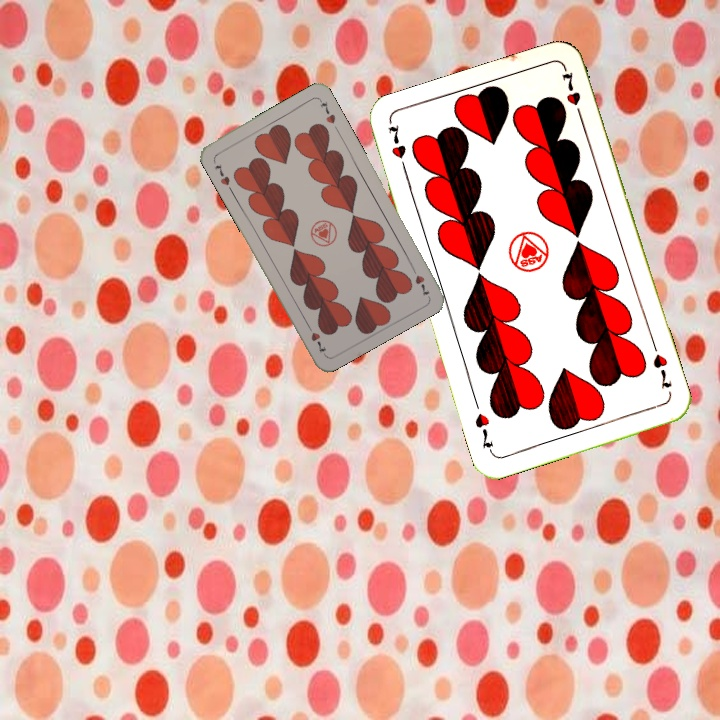H7: (384, 121, 411, 177), (648, 340, 675, 392), (407, 262, 432, 299), (211, 160, 233, 188)
